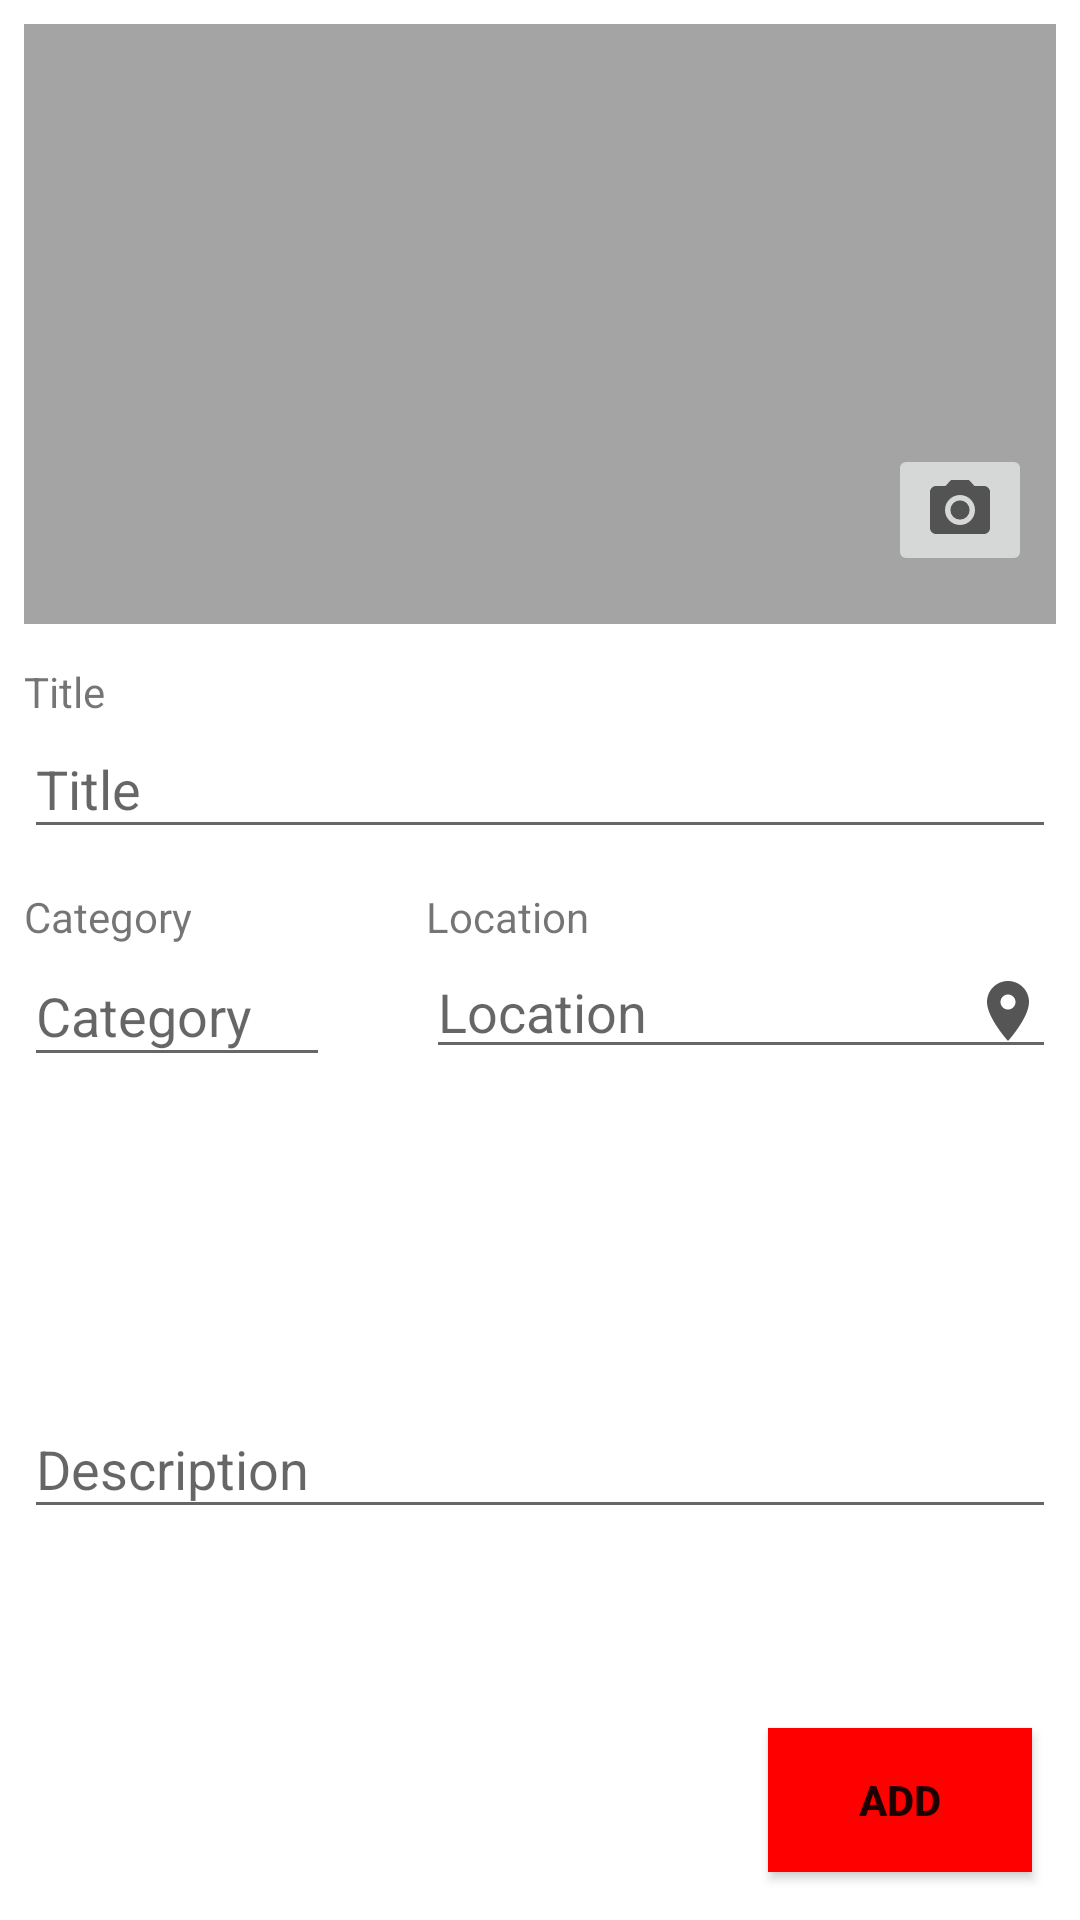

Icons on this 1080w x 1920h Android screen, each with its box as (x1, y1, x2, y2):
photo camera: (900, 462, 1020, 558)
